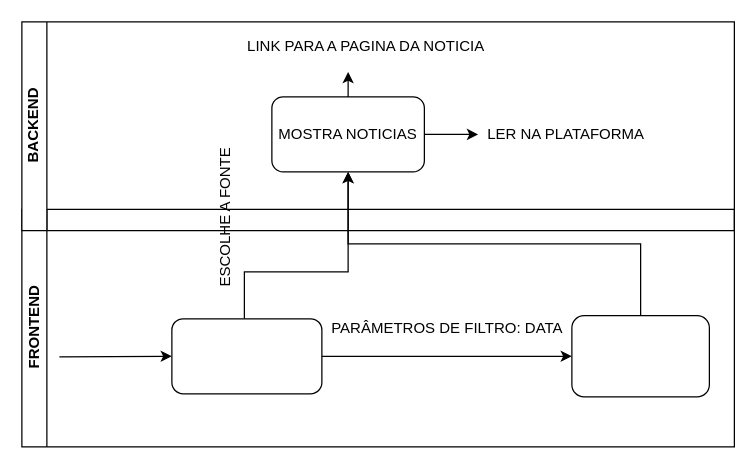
The diagram is 756 pixels wide and 469 high, and some of its shapes have lost their labels. Each missing label, with the centre of its shape:
CONSULTA FONTE: the point at 246,356
FILTRAR: the point at 640,355
